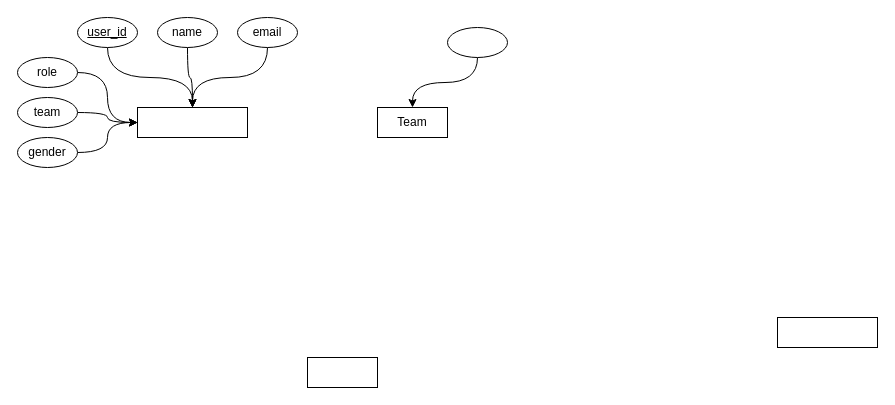
Some shapes in this 895 by 405 pixel diagram are drawn without their labels. Each missing label, with the centre of its shape:
"Report" belongs at (342,372).
"team_id" belongs at (477,42).
"TeamMember" belongs at (827,332).
"User" belongs at (192,122).
